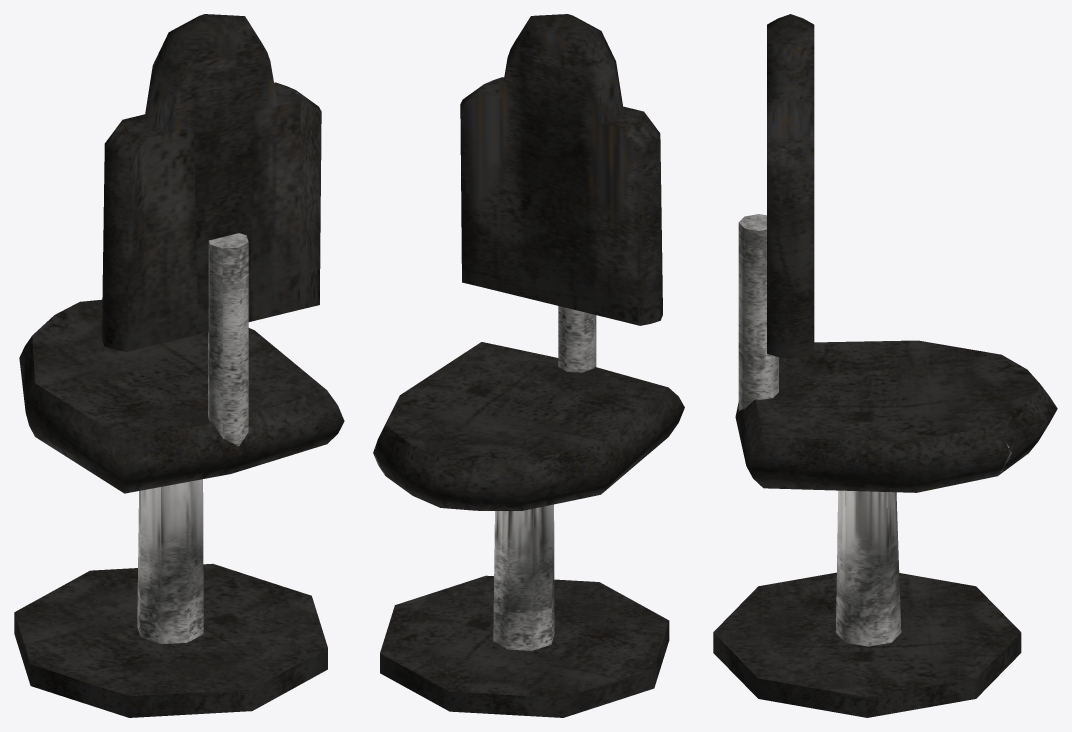
Rendered from Silla.fbx.
The picture shows the model from 3 angles, left to right: view 1: azimuth 30°, elevation 25°; view 2: azimuth 150°, elevation 25°; view 3: azimuth 270°, elevation 25°; orthographic projection. The views are drawn at different scales.
Visible parts, largest first — view 1: Silla; view 2: Silla; view 3: Silla.
Part boxes in pixels (bbox=[...]): Silla: bbox=[14, 14, 344, 717]; Silla: bbox=[373, 14, 684, 717]; Silla: bbox=[713, 14, 1057, 717].
Size of the model in its own units: 166 by 377 by 186.
Materials: 1 (1 with a texture image).
